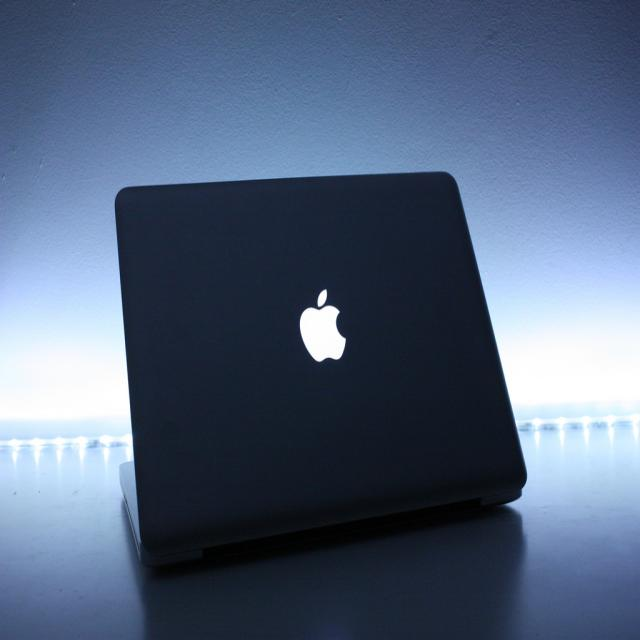apple: (296, 283, 352, 370)
